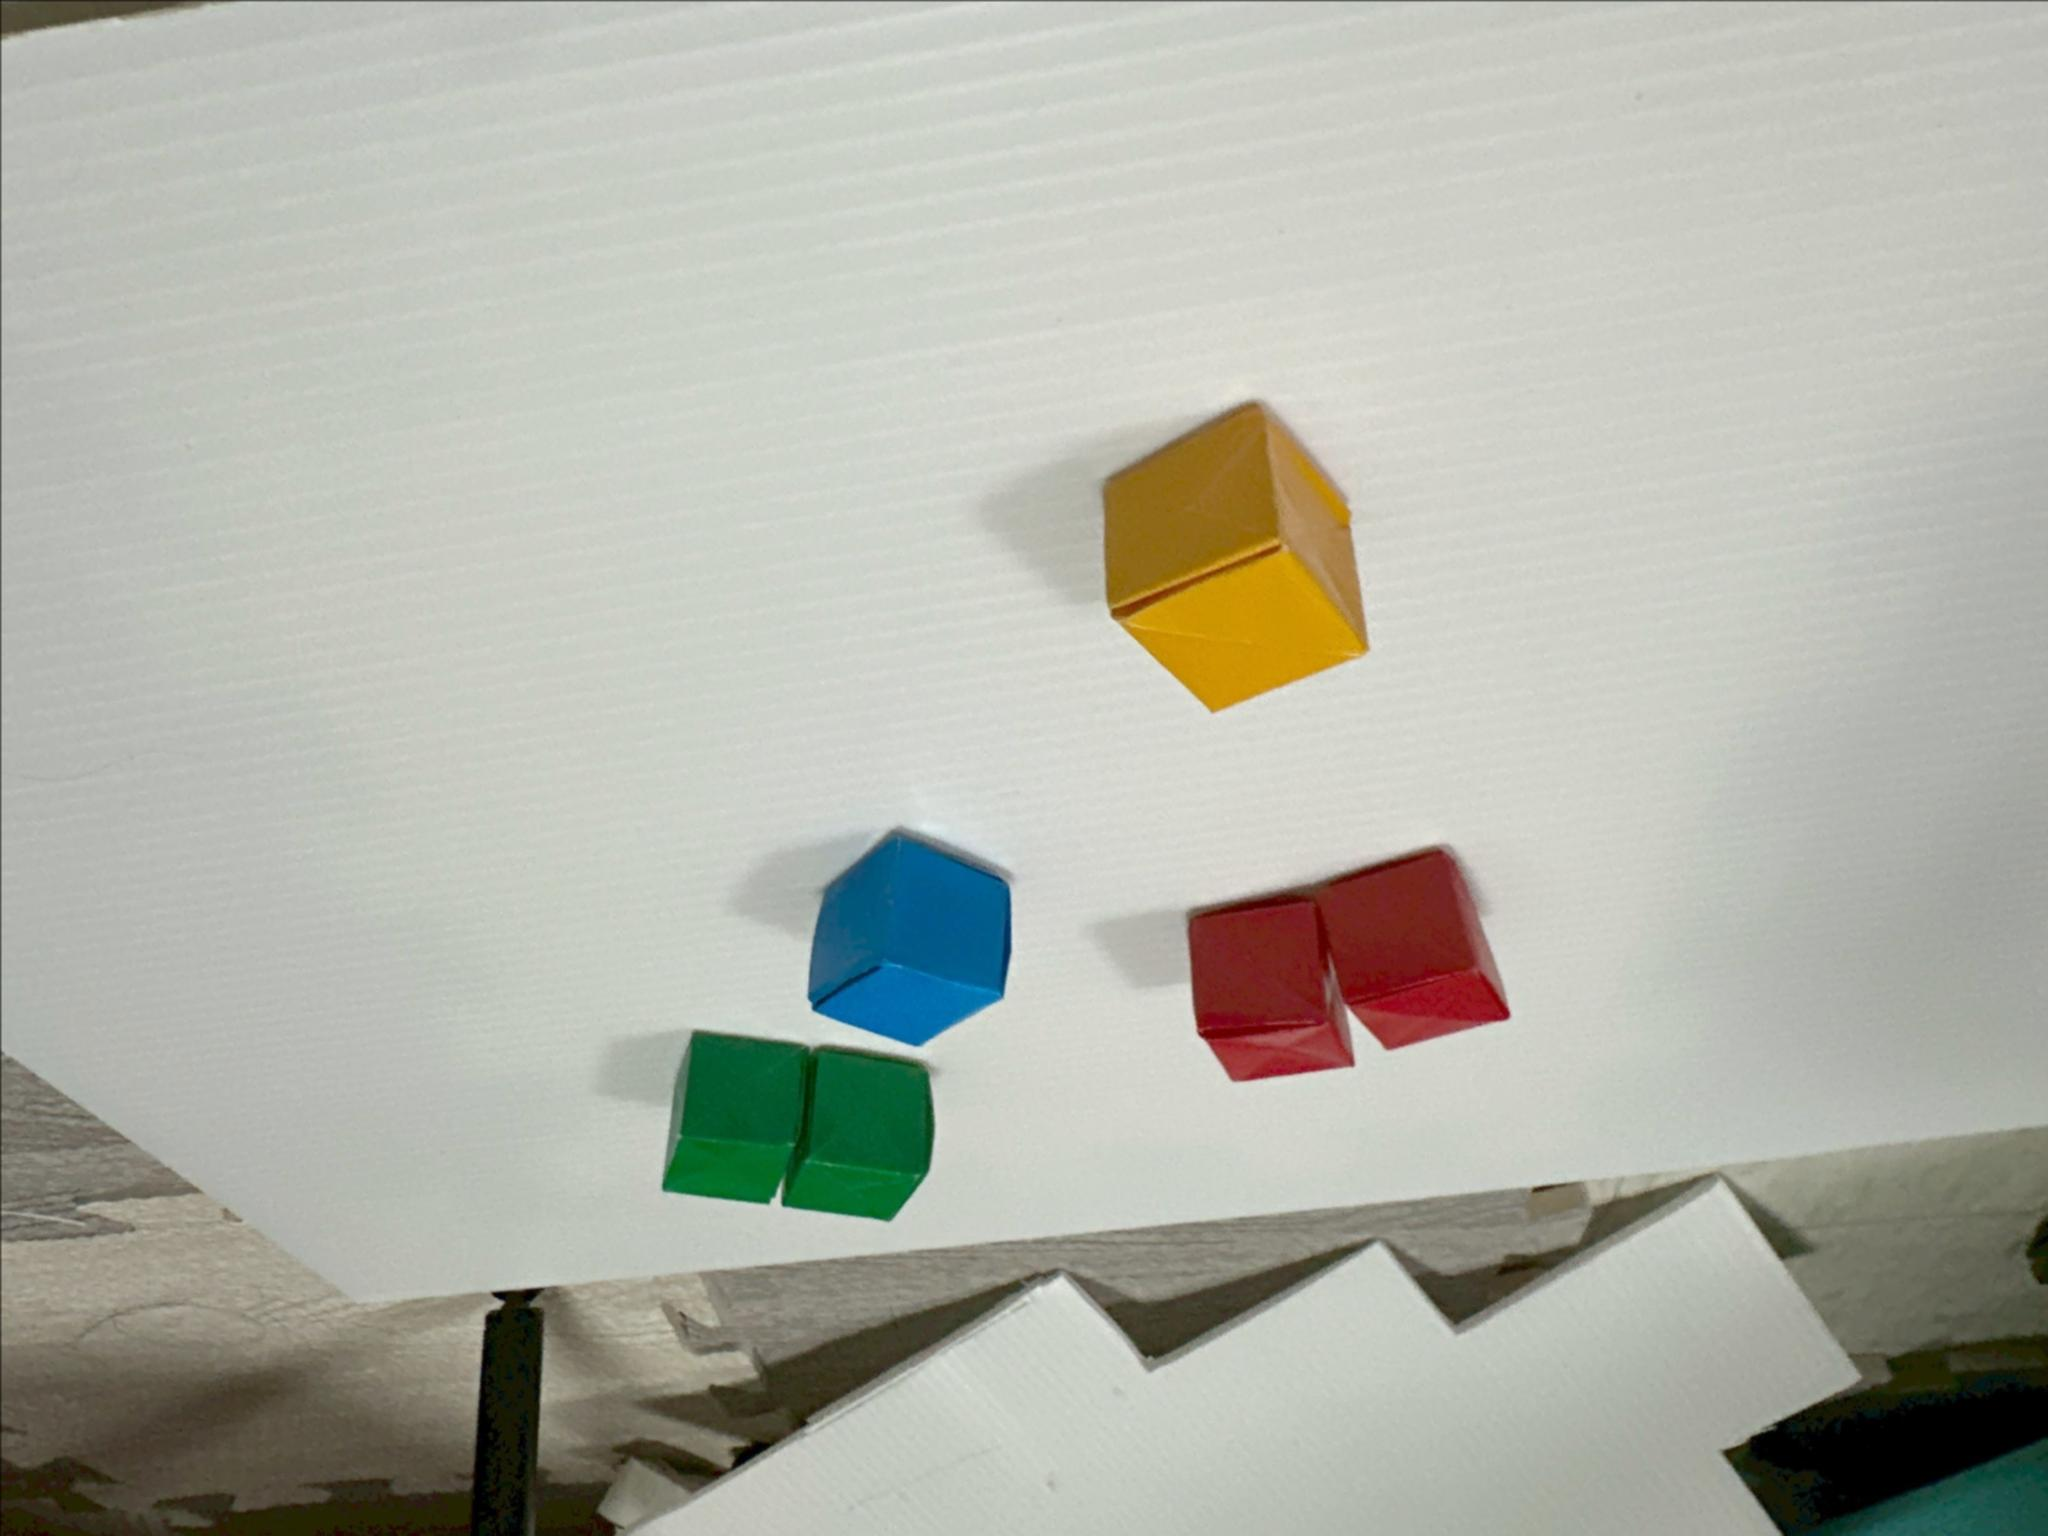base: (1103, 403, 1366, 710), (808, 833, 1009, 1046), (1313, 849, 1508, 1049), (1188, 897, 1353, 1081), (782, 1047, 934, 1218), (663, 1031, 810, 1202)
